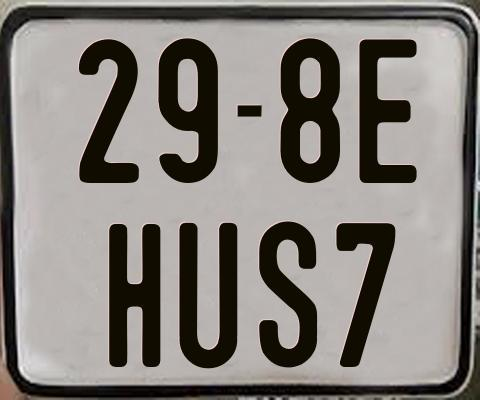2: (77, 39, 139, 189)
7: (333, 222, 397, 368)
8: (278, 37, 344, 183)
9: (156, 36, 220, 181)
E: (357, 37, 421, 187)
H: (109, 222, 161, 368)
S: (258, 219, 318, 366)
U: (178, 223, 239, 370)
